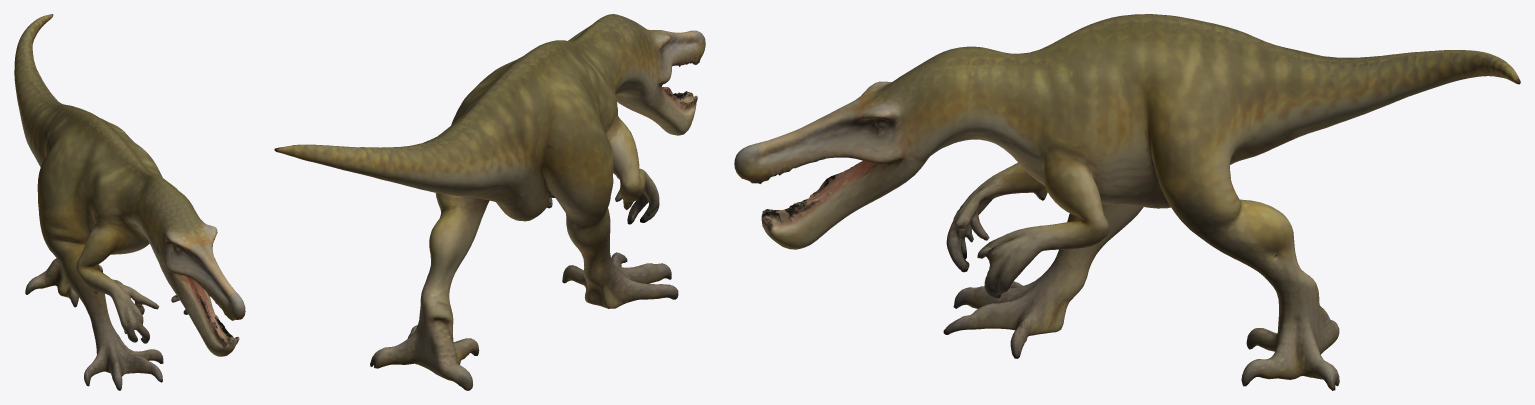
3 views of the same model, side by side, from view 1: azimuth 30°, elevation 25°; view 2: azimuth 150°, elevation 25°; view 3: azimuth 270°, elevation 25° (orthographic). The views are drawn at different scales.
Parts seen in each view (by area): view 1: world; view 2: world; view 3: world.
Boxes of the visible parts, x1=… form: world: x1=14, y1=14, x2=245, y2=390; world: x1=274, y1=14, x2=705, y2=390; world: x1=734, y1=14, x2=1520, y2=390.
Size of the model in its own units: 3.37 by 4.97 by 10.8.
1 material, 1 textured.
